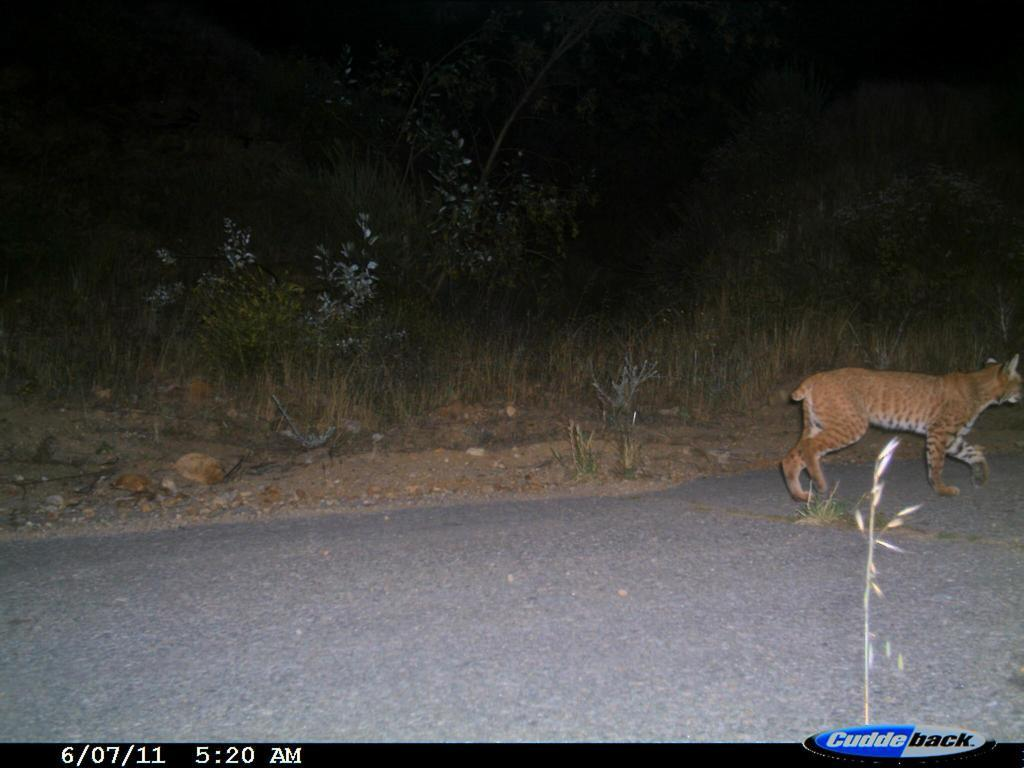bobcat: (767, 341, 1018, 514)
